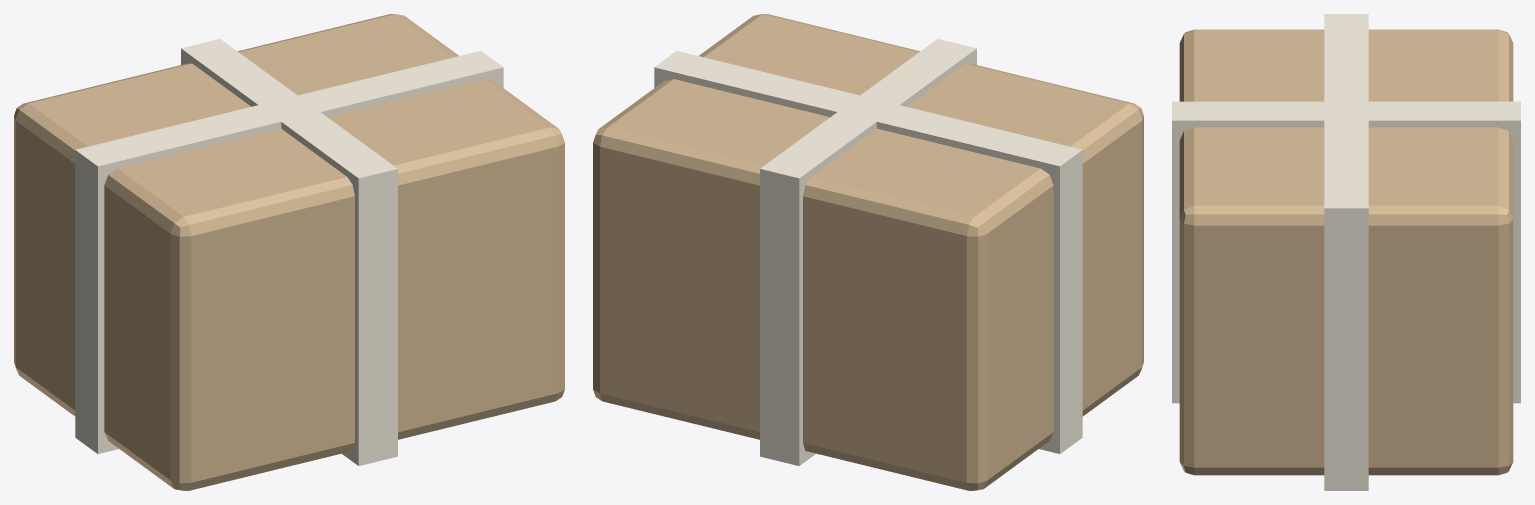
The model's file is parcel_held.gltf.
The picture shows the model from 3 angles, left to right: view 1: azimuth 30°, elevation 25°; view 2: azimuth 150°, elevation 25°; view 3: azimuth 270°, elevation 25°; orthographic projection.
Visible parts, largest first — view 1: villagers_parcel_held; view 2: villagers_parcel_held; view 3: villagers_parcel_held.
Part boxes in pixels (box(x1,y1,x2,y2)): villagers_parcel_held: box(14, 14, 564, 490); villagers_parcel_held: box(593, 14, 1143, 490); villagers_parcel_held: box(1172, 14, 1520, 490).
Bounding box in the file's own units: 0.124 × 0.084 × 0.094.
